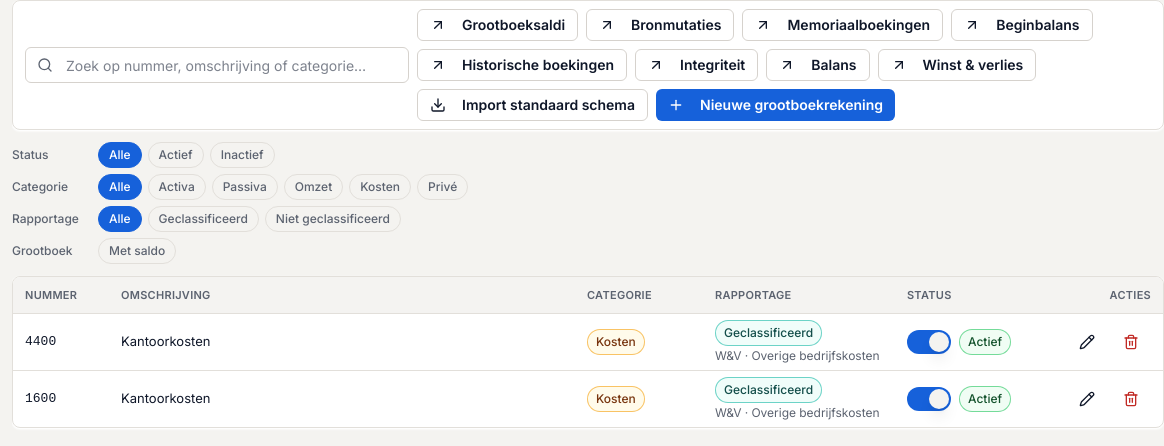
Scenario: Met saldo › 10. de zelfcontrole van de kern sluit niet: zelfde fail-closed gedrag
Click the button "Met saldo": click(137, 251) [98,238,176,264]
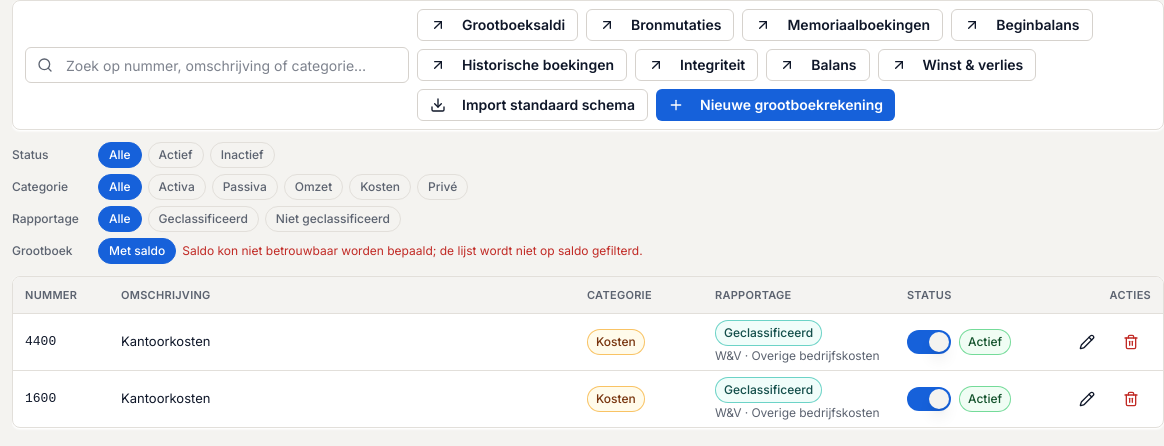
Now the message with test id "saldo-fout" is shown, box [182,243,643,259]
